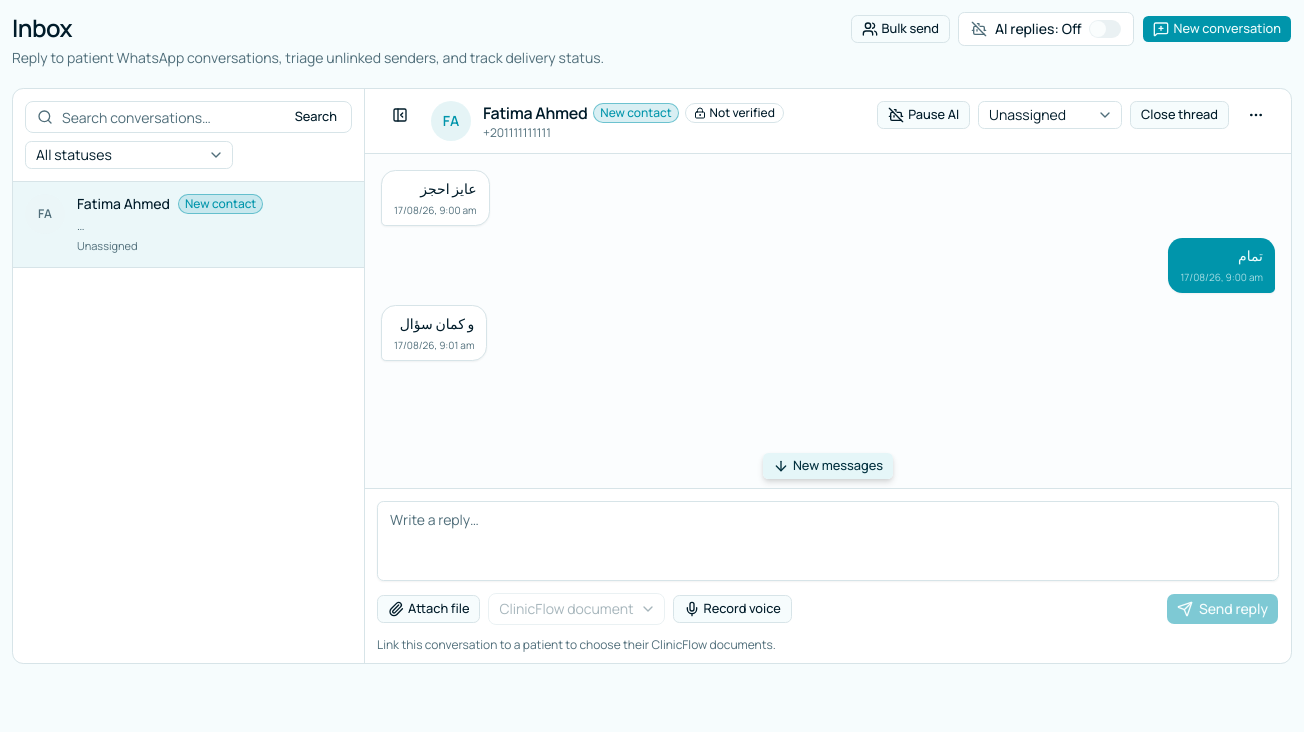
Test case: P10 §14 · the Inbox thread follows new messages › leaves a reader who has scrolled up alone, and tells them there is more
// …and the indicator is the way back down, dismissed by using it.
Click the button with test id "inbox-new-messages" at (828, 466), box [762,452,894,480]
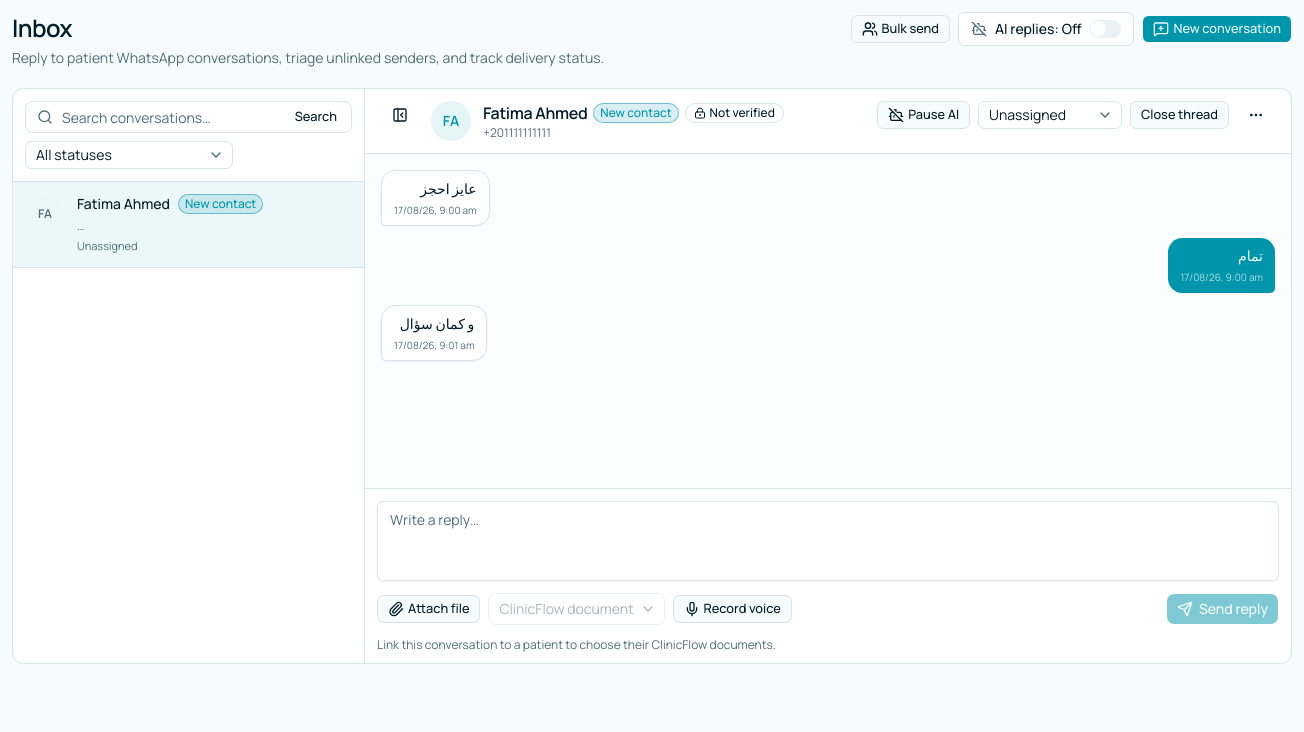
Now the button with test id "inbox-new-messages" is gone
